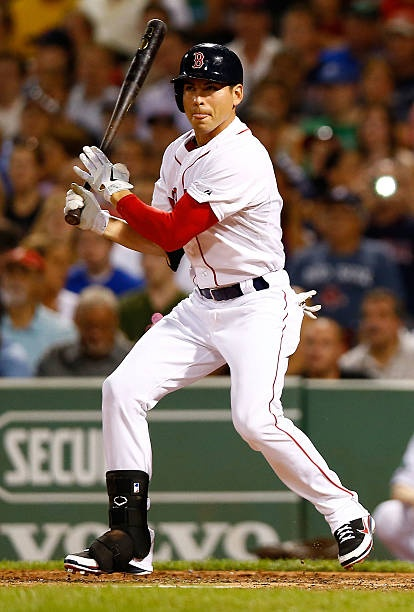bita: (92, 14, 168, 176)
